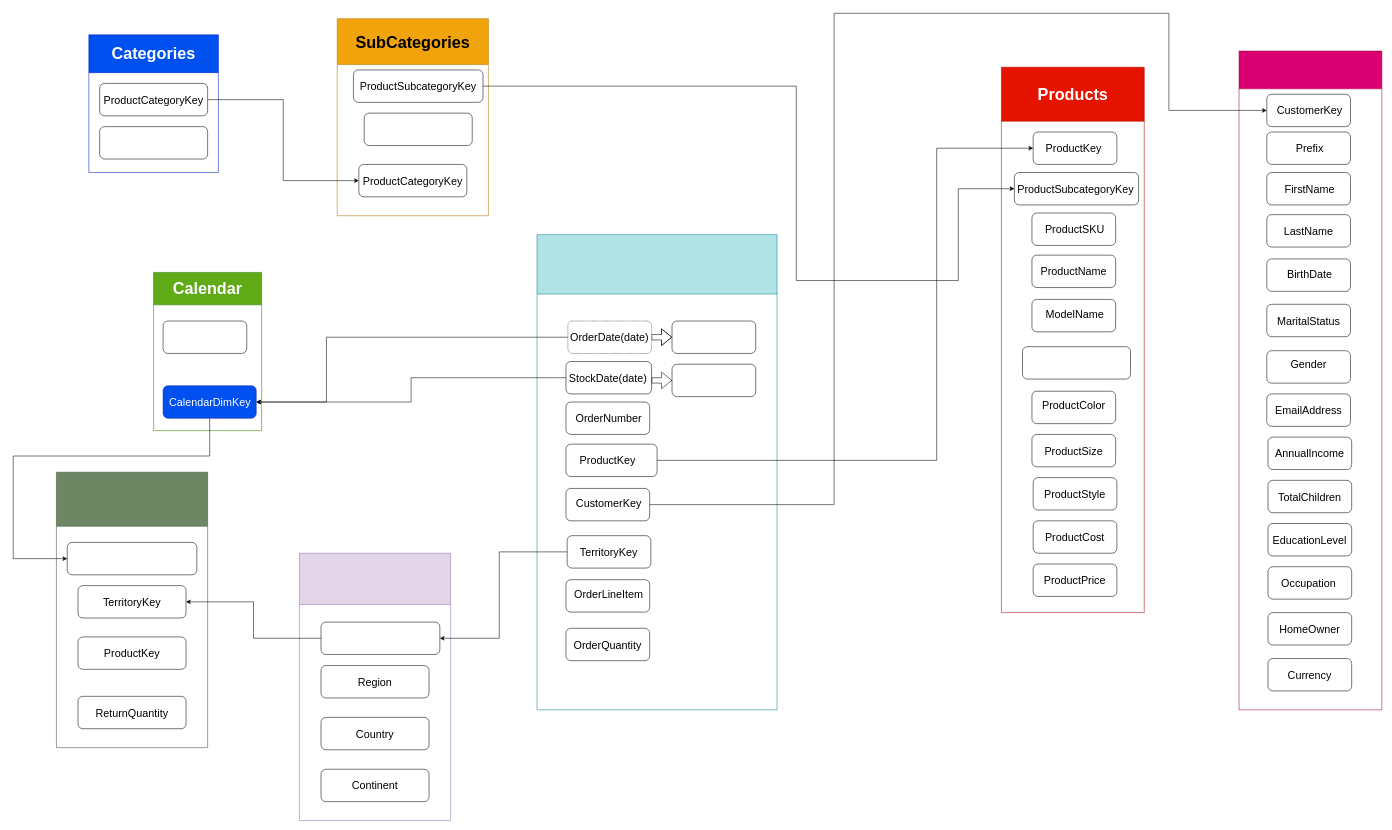
Some shapes in this 1392 by 830 pixel diagram are drawn without their labels. Here are the shapes that lost their labels. From the top down, the box of each, then its label:
(99, 126, 208, 159): CategoryName
(364, 113, 472, 146): SubcategoryName
(163, 320, 247, 353): Date
(671, 320, 756, 353): OrderDate(key)
(671, 364, 756, 397): StockDate(key)
(1022, 346, 1130, 379): ProductDescription
(1238, 50, 1382, 710): Customers
(536, 234, 777, 710): Sales (FACT)
(67, 542, 197, 575): ReturnDate
(56, 472, 208, 748): Returns
(320, 622, 440, 654): SalesTerritoryKey
(299, 553, 451, 821): Territories
